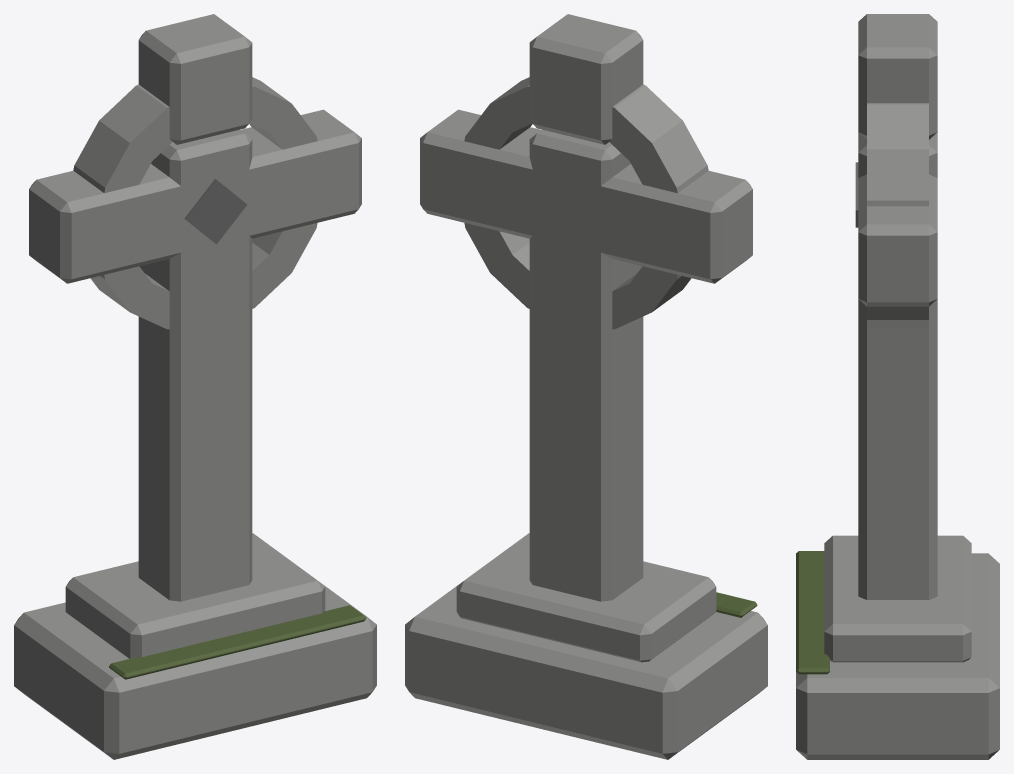
Rendered from gravestone_b.glb.
3 views of the same model, side by side, from view 1: azimuth 30°, elevation 25°; view 2: azimuth 150°, elevation 25°; view 3: azimuth 270°, elevation 25° (orthographic).
Visible parts, largest first — view 1: gravestone_b; view 2: gravestone_b; view 3: gravestone_b.
Boxes of the visible parts, x1=… form: gravestone_b: x1=14, y1=14, x2=376, y2=759; gravestone_b: x1=405, y1=14, x2=767, y2=759; gravestone_b: x1=796, y1=14, x2=999, y2=759.
Bounding box in the file's own units: 0.62 × 1.3 × 0.36.
